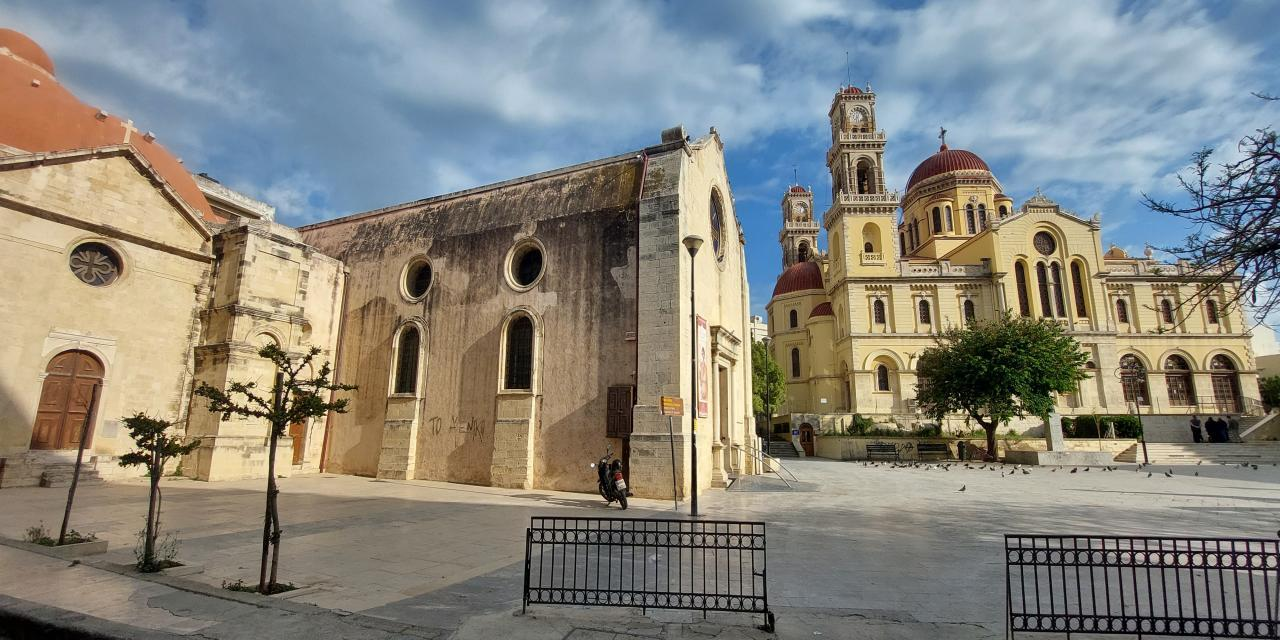Agia Aikaterini: (5, 25, 764, 516)
